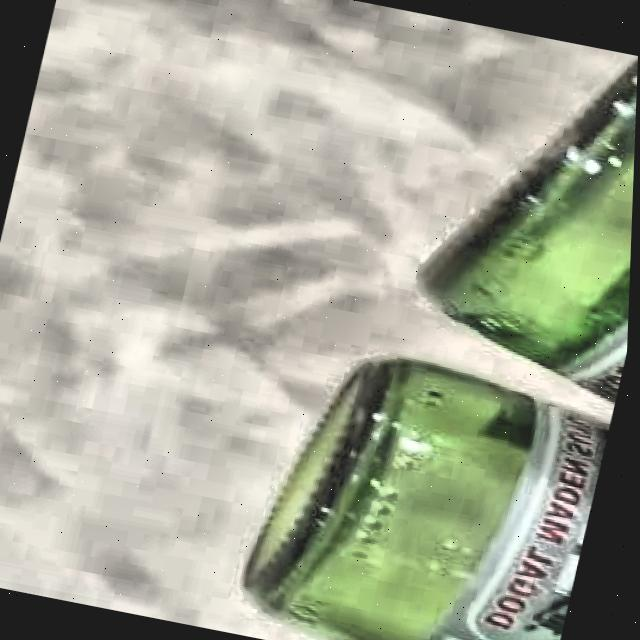glass: (250, 359, 614, 640)
